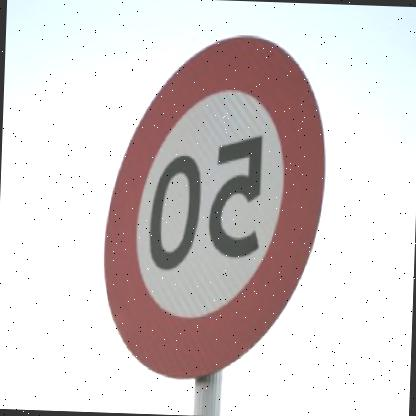speedlimit: (100, 28, 334, 385)
